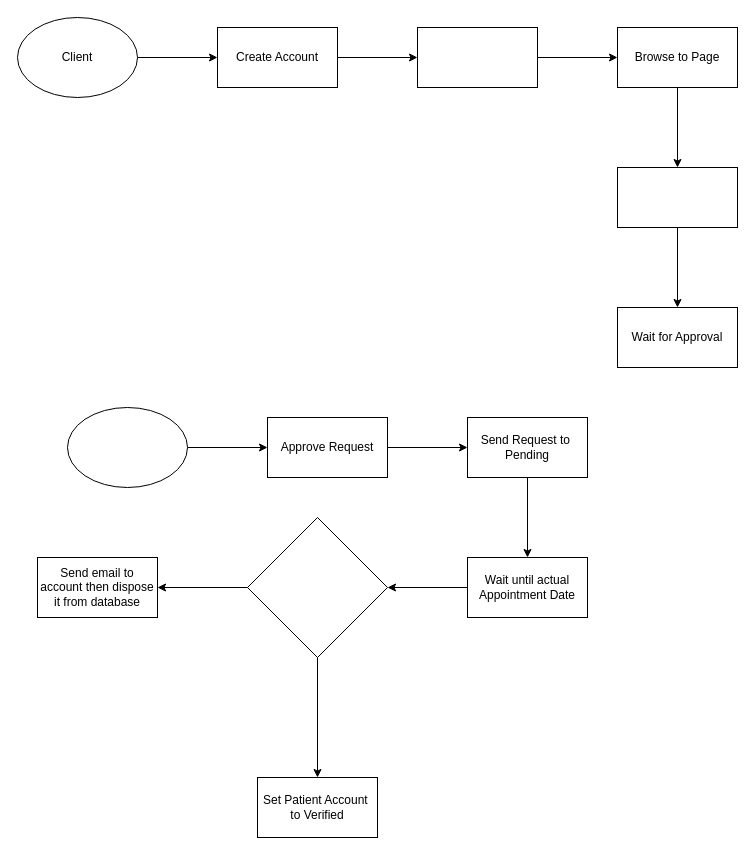
This 755x855 diagram has some shape labels left out. Here are the shapes that lost their labels. From the top down, the box of each, then its label:
(416, 26, 538, 88): Set Account to Unverified
(616, 166, 738, 228): Create Appointment Request
(66, 406, 188, 488): Admin
(246, 516, 388, 658): Client Showed up on Appointment Date ?
